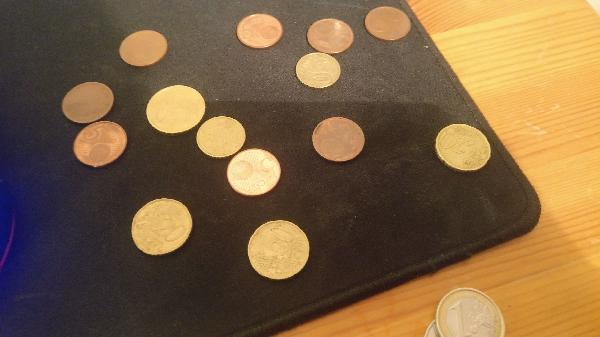Fifty Cent: (146, 83, 207, 135)
Five Cent: (225, 144, 289, 197), (69, 120, 134, 170), (310, 113, 368, 163), (63, 80, 119, 122), (118, 28, 173, 69), (361, 5, 413, 44), (306, 17, 358, 53), (237, 13, 284, 49)
One Euro: (436, 285, 506, 337)
Ten Cent: (291, 50, 345, 90), (195, 115, 245, 156)
Twenty Cent: (246, 219, 313, 282), (130, 197, 194, 254), (434, 124, 494, 172)
